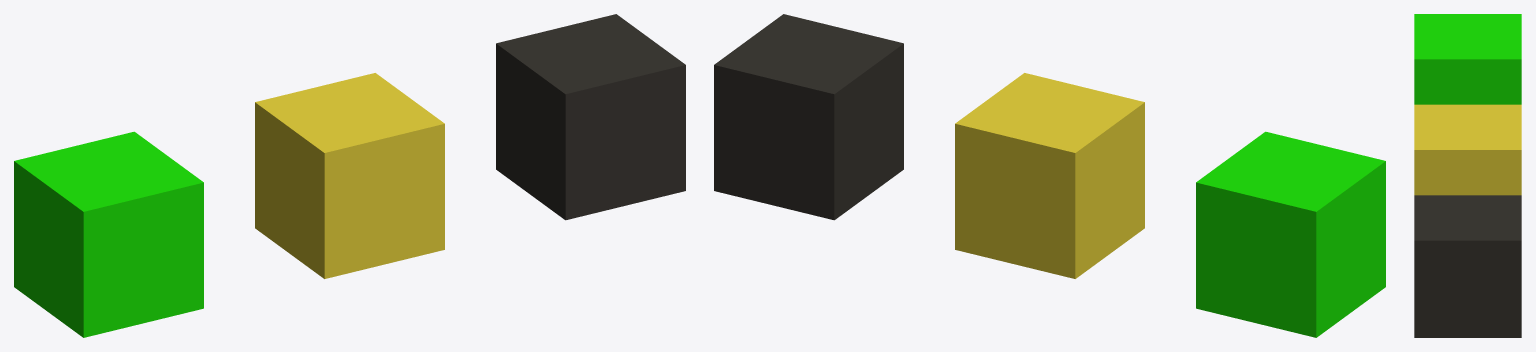
3 renders of one model, left to right at view 1: azimuth 30°, elevation 25°; view 2: azimuth 150°, elevation 25°; view 3: azimuth 270°, elevation 25°, orthographic. The views are drawn at different scales.
Visible parts, largest first — view 1: grass, rock, sand; view 2: grass, rock, sand; view 3: rock, sand, grass.
Boxes of the visible parts, x1,y1,x2,y2 form: grass: (14,131,203,337); rock: (496,14,685,220); sand: (255,73,444,278); grass: (1196,131,1385,337); rock: (714,14,903,220); sand: (955,73,1144,278); rock: (1414,195,1521,337); sand: (1414,104,1521,195); grass: (1414,14,1521,104).
Size of the model in its own units: 5 by 1 by 1.
